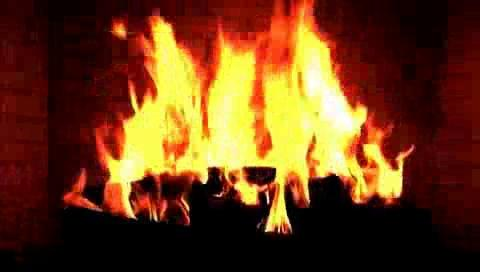fire: (99, 13, 406, 232)
